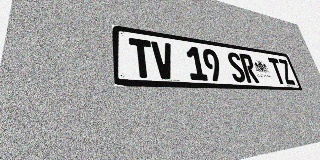1: (184, 46, 208, 81)
9: (201, 48, 224, 81)
R: (239, 53, 259, 83)
S: (226, 51, 247, 82)
T: (129, 38, 155, 78), (267, 57, 287, 84)
V: (151, 41, 176, 79)
Z: (277, 59, 296, 85)
